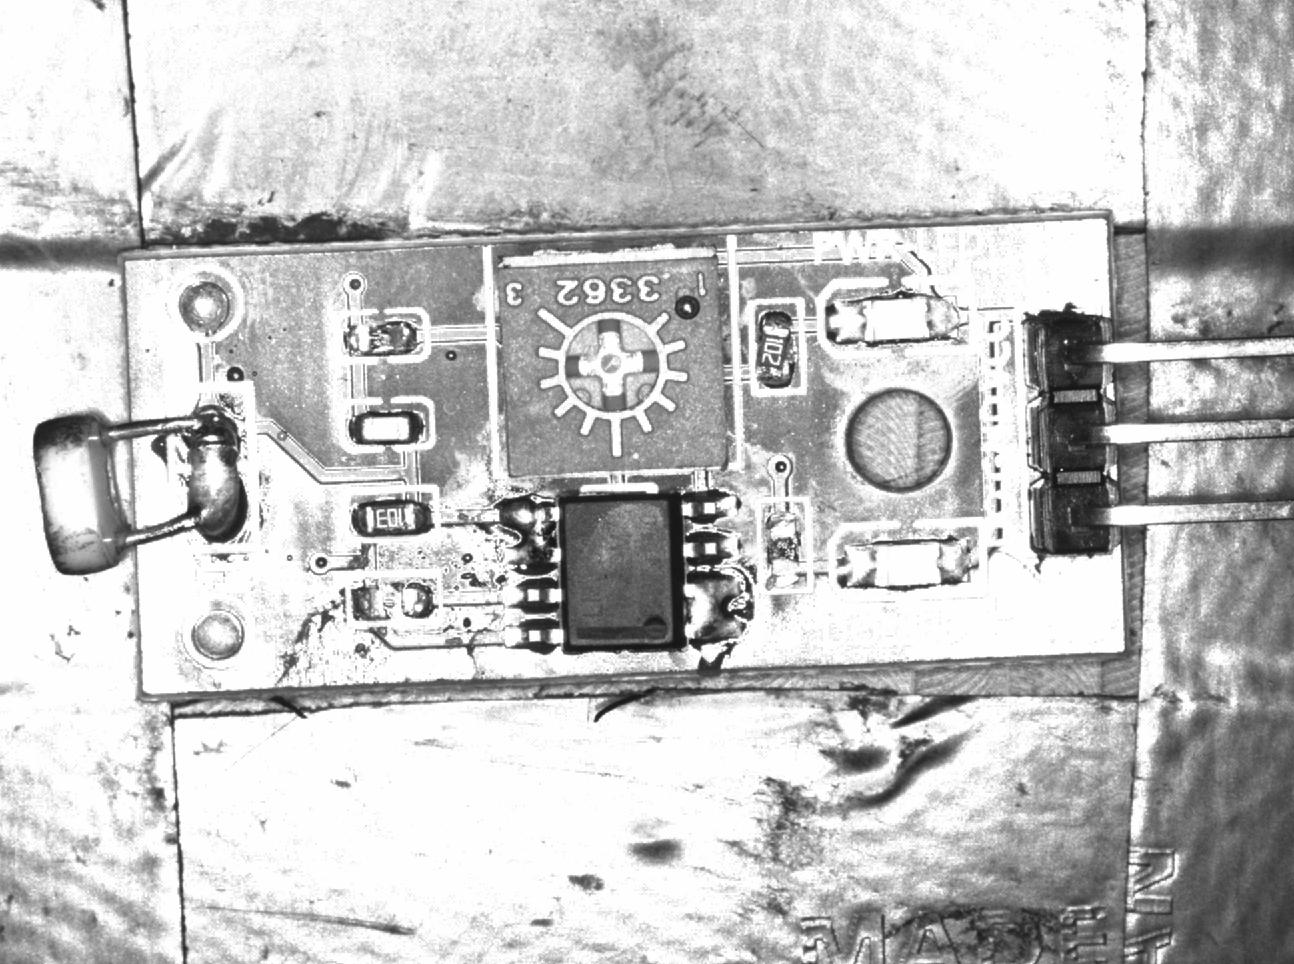bridge: (185, 387, 254, 551), (494, 496, 560, 577), (686, 569, 744, 647)
lifted: (749, 302, 809, 399)
miss: (349, 569, 440, 630), (756, 501, 815, 595), (334, 308, 425, 360)
ok: (340, 489, 440, 544), (344, 399, 435, 451)
